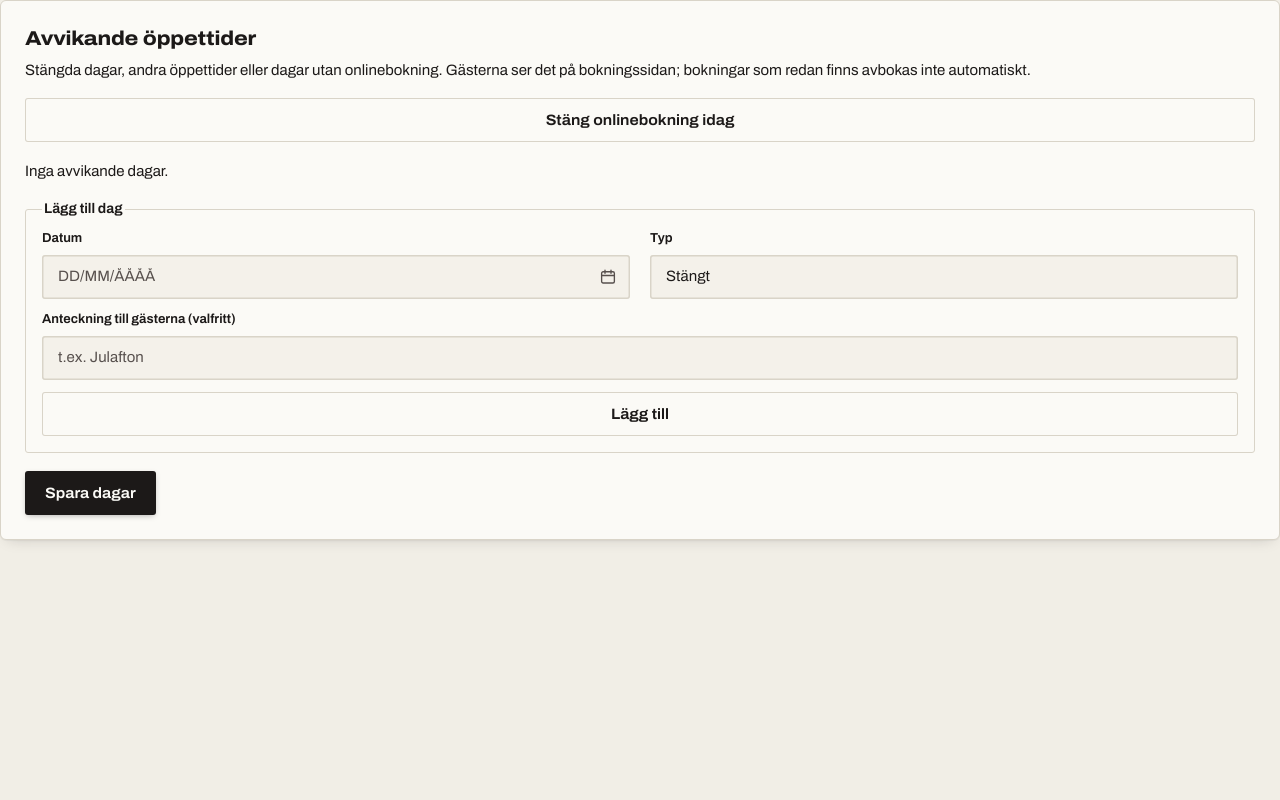
Test: SpecialDaysCard › special hours need valid times
Expected: the text "Inga avvikande dagar." is shown, [25,162,168,178]
Type "30/10/2026" into the field labelled "Datum" at (336, 277), box [42,255,630,299]
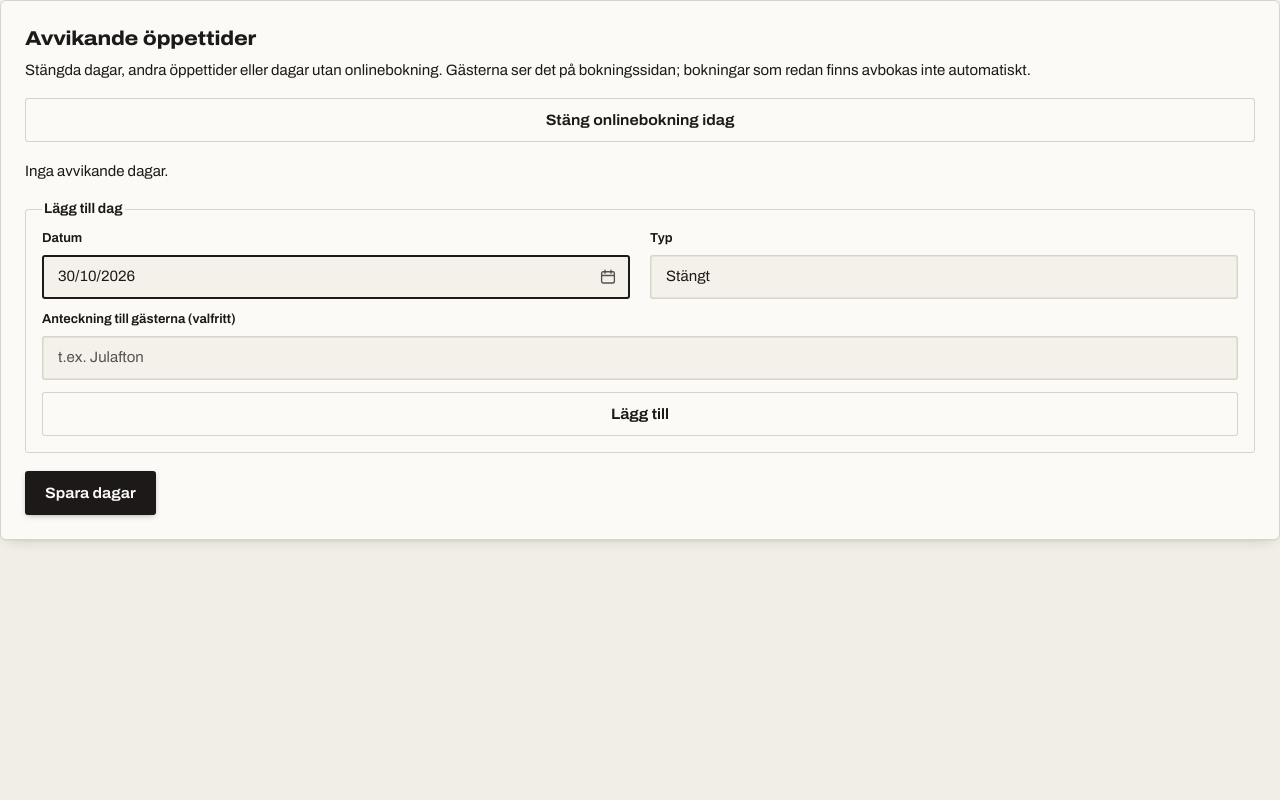
Select "Andra öppettider" in the dropdown labelled "Typ" at (944, 277), box [650,255,1238,299]
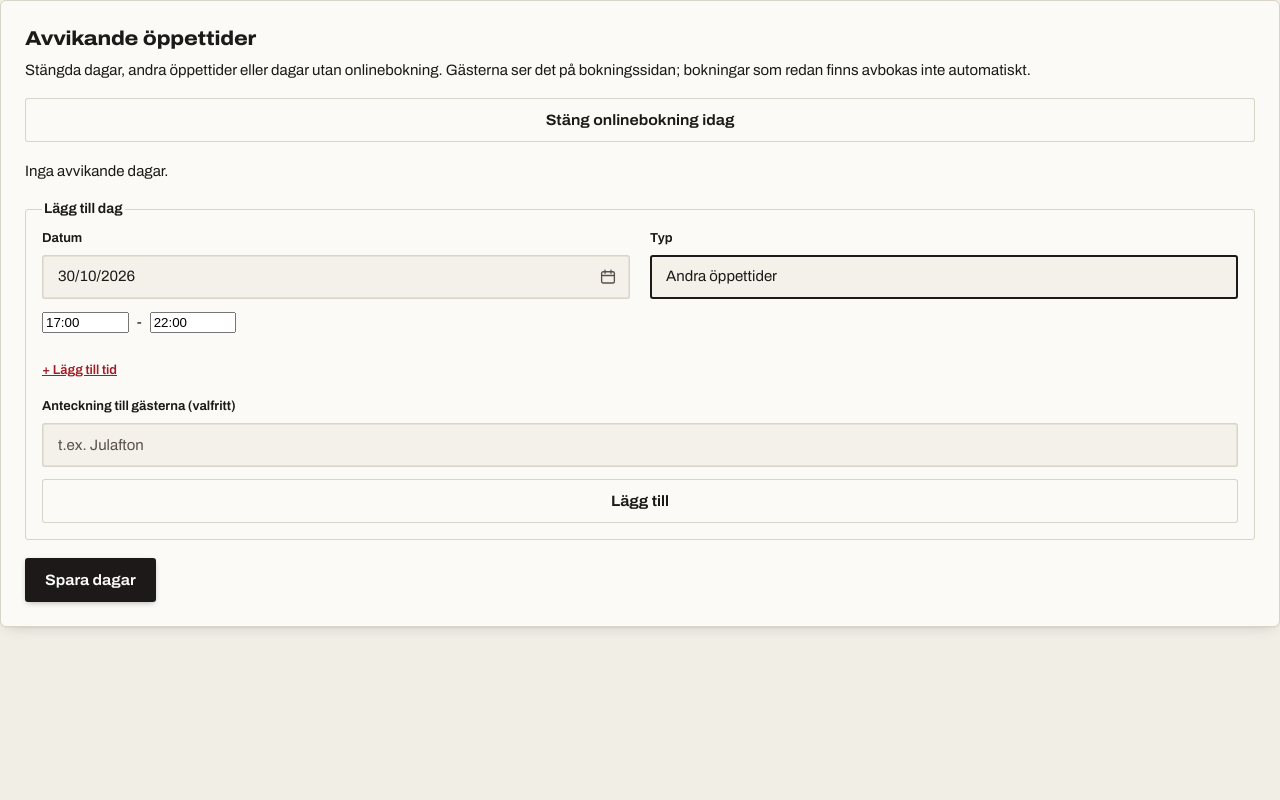
Replace the text in the field named "Stänger (tid 1)" with "16:00" at (193, 322), box [150,312,236,333]
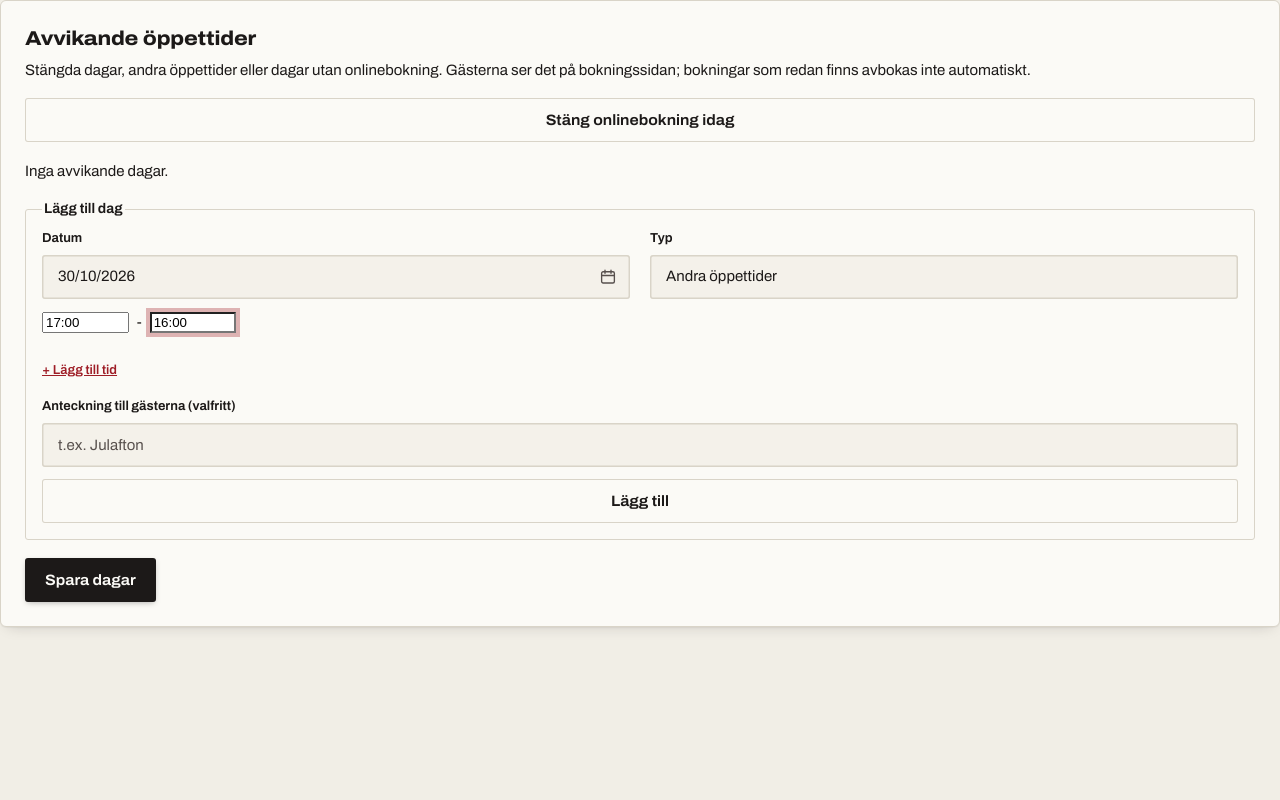
Click the button "Lägg till" at (640, 501), box [42,479,1238,523]
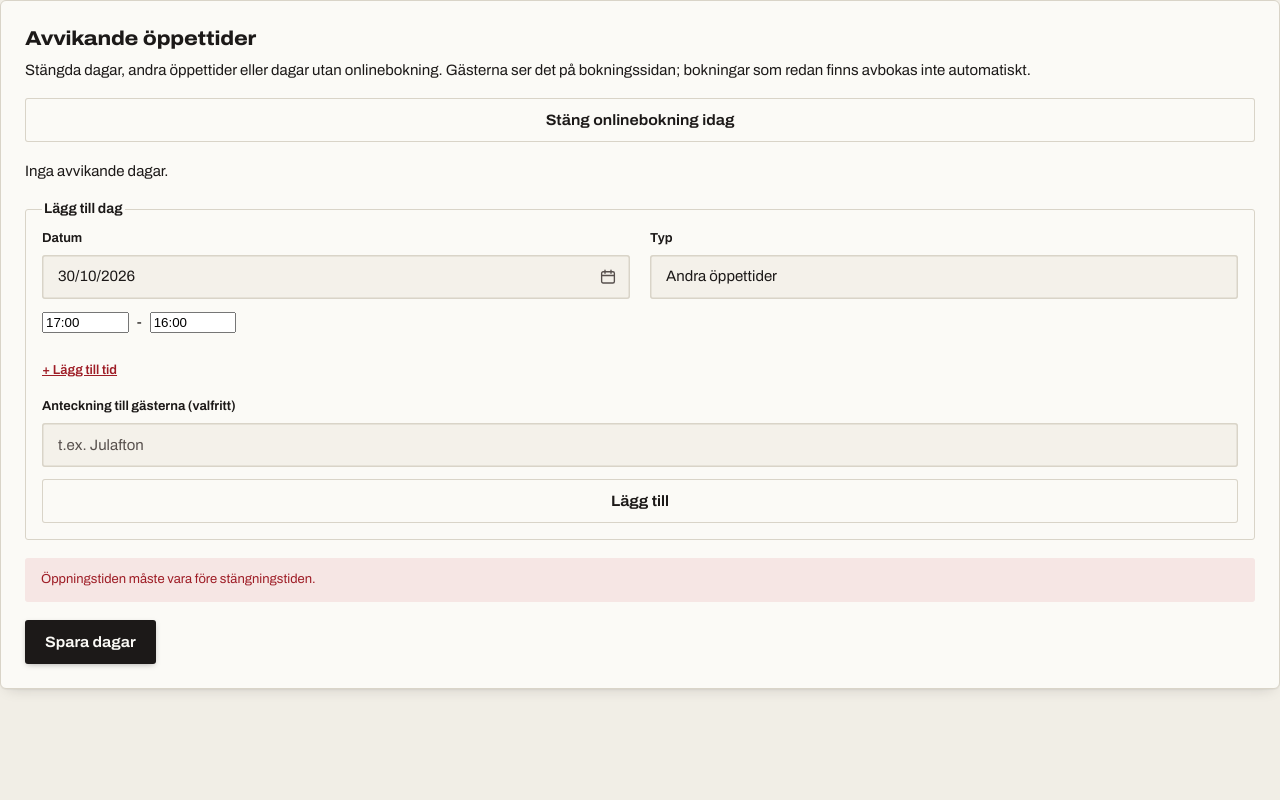
Expected: the message reads "Öppningstiden måste vara före stängningstiden.", [41,572,316,586]
